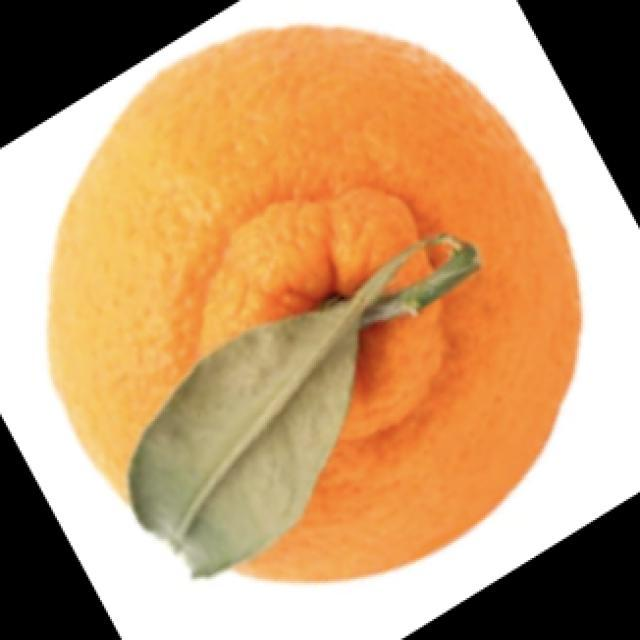Orange: (45, 22, 583, 583)
